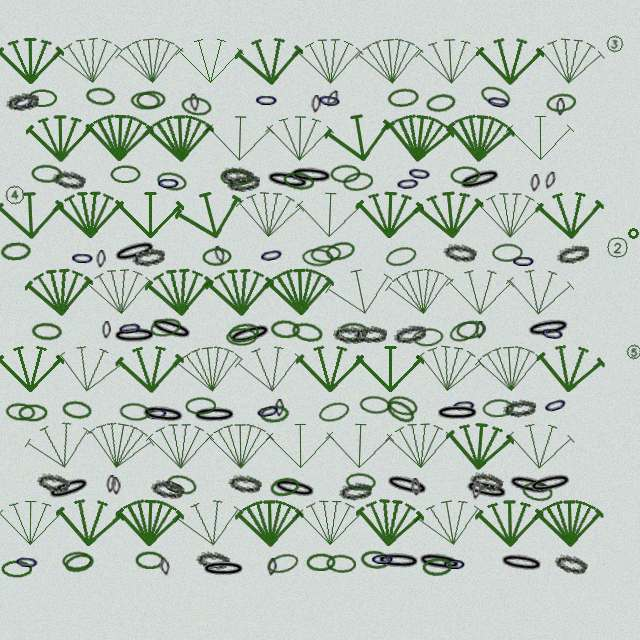chain: (45, 473, 93, 504), (147, 314, 195, 344), (456, 165, 504, 194), (111, 237, 159, 266), (226, 320, 274, 349), (383, 471, 431, 500), (271, 475, 318, 502), (506, 472, 553, 499), (527, 470, 574, 497), (463, 477, 510, 503), (264, 168, 311, 193), (525, 316, 572, 340), (416, 550, 463, 574), (498, 551, 545, 575), (140, 403, 186, 426), (383, 396, 417, 427), (447, 317, 482, 345), (288, 165, 334, 186), (478, 83, 513, 110), (555, 241, 591, 267), (392, 321, 428, 347), (376, 551, 421, 571), (317, 399, 351, 425), (553, 552, 589, 576), (112, 326, 157, 345), (384, 244, 418, 269), (266, 551, 300, 576), (131, 245, 166, 269), (386, 393, 419, 418), (165, 472, 198, 497), (290, 320, 324, 344), (192, 406, 237, 424), (435, 404, 480, 422), (201, 560, 246, 578), (5, 90, 40, 113), (226, 171, 261, 194), (36, 471, 71, 494), (469, 470, 504, 493), (324, 239, 357, 263), (63, 551, 96, 575), (159, 474, 189, 500), (502, 397, 537, 419), (150, 478, 185, 500), (338, 480, 373, 502), (155, 170, 188, 193), (149, 316, 182, 339), (227, 321, 260, 344), (521, 480, 554, 503), (9, 89, 38, 115), (269, 475, 301, 498), (180, 95, 213, 117), (282, 170, 315, 192), (52, 169, 86, 190), (443, 242, 477, 263), (228, 473, 262, 494), (425, 92, 457, 114), (61, 399, 93, 421), (541, 393, 570, 417), (196, 550, 230, 570), (387, 87, 419, 108), (545, 92, 577, 113), (342, 171, 374, 192), (455, 319, 487, 340), (85, 86, 116, 107), (360, 549, 391, 570), (310, 244, 342, 264), (412, 327, 444, 347), (119, 402, 151, 422), (359, 395, 391, 415), (482, 398, 514, 418), (221, 166, 254, 185), (333, 325, 366, 344), (130, 91, 161, 111), (0, 241, 31, 261), (270, 319, 301, 339), (5, 402, 36, 422), (259, 404, 290, 424), (345, 472, 376, 492), (254, 400, 282, 422), (485, 91, 512, 113), (258, 244, 285, 266), (354, 325, 387, 343), (31, 164, 62, 183), (330, 164, 361, 183), (302, 248, 333, 267), (492, 243, 523, 262), (31, 322, 62, 341), (337, 322, 368, 341), (136, 90, 166, 109), (220, 168, 250, 187), (202, 247, 232, 266), (62, 551, 92, 570), (326, 554, 356, 573), (422, 557, 452, 576), (316, 90, 343, 111), (406, 163, 433, 184), (539, 323, 566, 344), (143, 403, 170, 424), (110, 165, 141, 183), (226, 328, 257, 346), (185, 397, 216, 415), (1, 560, 32, 578), (27, 89, 57, 107), (450, 166, 480, 184), (18, 404, 48, 422), (135, 551, 165, 569), (306, 553, 336, 571), (117, 318, 143, 338), (14, 552, 40, 572), (395, 174, 421, 193), (451, 396, 477, 415), (254, 91, 279, 109), (156, 174, 181, 192), (70, 249, 95, 267), (511, 252, 536, 270), (370, 550, 395, 568), (442, 555, 467, 573), (324, 89, 340, 109), (543, 171, 557, 190), (213, 245, 227, 264), (159, 557, 171, 576), (189, 93, 200, 112), (471, 481, 482, 500), (311, 95, 321, 113), (530, 174, 540, 192), (96, 250, 106, 268), (475, 321, 485, 339), (106, 475, 116, 493), (111, 477, 121, 495), (411, 478, 421, 496), (267, 558, 277, 576), (556, 98, 565, 116), (102, 321, 111, 339), (275, 399, 284, 417)
fan: (171, 182, 249, 248), (21, 414, 98, 477), (322, 260, 398, 323), (322, 107, 397, 168), (82, 415, 157, 476), (412, 492, 487, 553), (52, 339, 127, 399), (172, 493, 247, 553), (383, 262, 457, 321), (53, 31, 126, 90), (413, 339, 486, 398), (383, 109, 456, 167), (173, 340, 246, 398), (233, 340, 306, 398), (114, 32, 186, 89), (414, 186, 486, 243), (534, 340, 606, 397), (354, 33, 426, 89), (534, 33, 606, 89), (444, 110, 516, 166), (234, 33, 305, 89), (24, 264, 95, 320), (144, 264, 215, 320), (504, 264, 575, 320), (444, 418, 515, 474), (234, 187, 305, 242), (84, 264, 155, 319), (474, 341, 545, 396), (54, 495, 125, 550), (354, 495, 425, 550), (415, 34, 485, 88), (145, 111, 215, 165), (535, 188, 605, 242), (205, 265, 275, 319), (115, 342, 185, 396), (505, 419, 575, 473), (265, 265, 335, 318), (85, 111, 154, 164), (55, 188, 124, 241), (295, 188, 364, 241), (355, 188, 424, 241), (325, 419, 394, 472), (385, 419, 454, 472), (115, 496, 184, 549), (295, 35, 364, 87), (205, 112, 274, 164), (265, 112, 334, 164), (235, 497, 304, 549), (475, 497, 544, 549), (535, 497, 604, 549), (476, 35, 544, 87), (26, 112, 94, 164), (476, 189, 544, 241), (446, 266, 514, 318), (146, 420, 214, 472), (206, 420, 274, 472), (0, 188, 65, 242), (176, 35, 244, 86), (506, 112, 574, 163), (116, 189, 184, 240), (296, 343, 364, 394), (356, 343, 424, 394), (266, 420, 334, 471), (296, 497, 364, 548), (0, 35, 64, 86), (0, 343, 64, 394), (0, 497, 64, 548)
noise: (605, 235, 630, 260), (3, 183, 27, 207), (604, 33, 625, 54), (624, 342, 640, 362), (627, 227, 639, 239)
